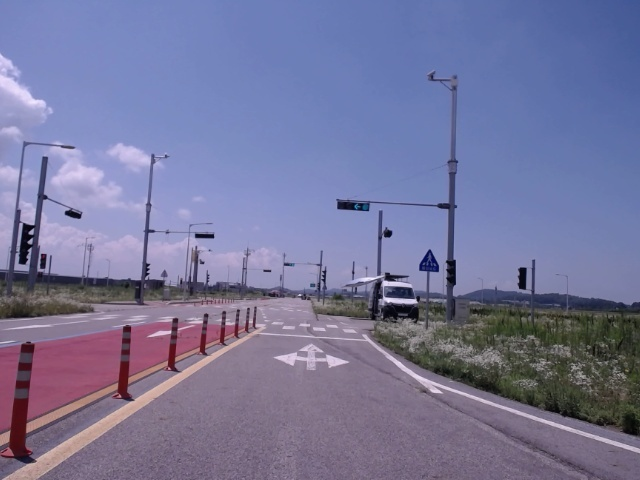all_green_4: (336, 198, 370, 213)
